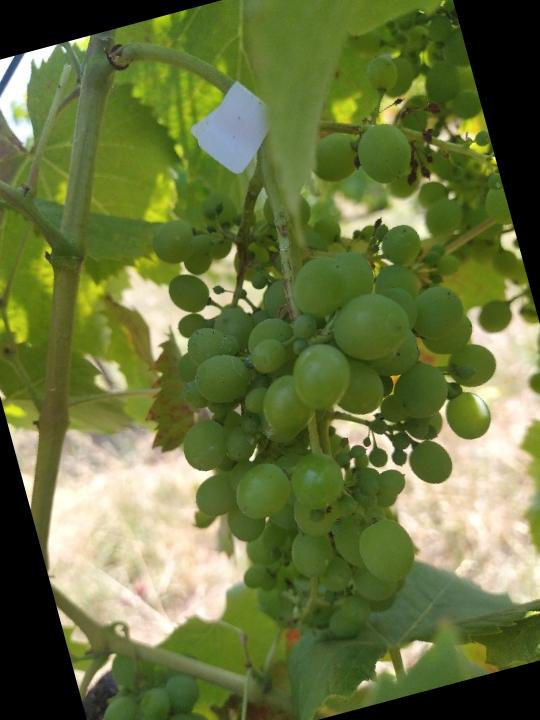grape: (94, 45, 540, 674)
